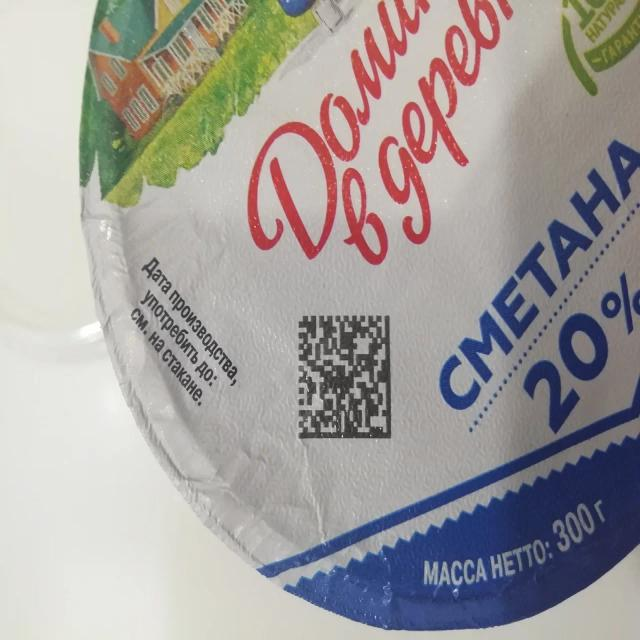datamatrix: (297, 312, 395, 445)
